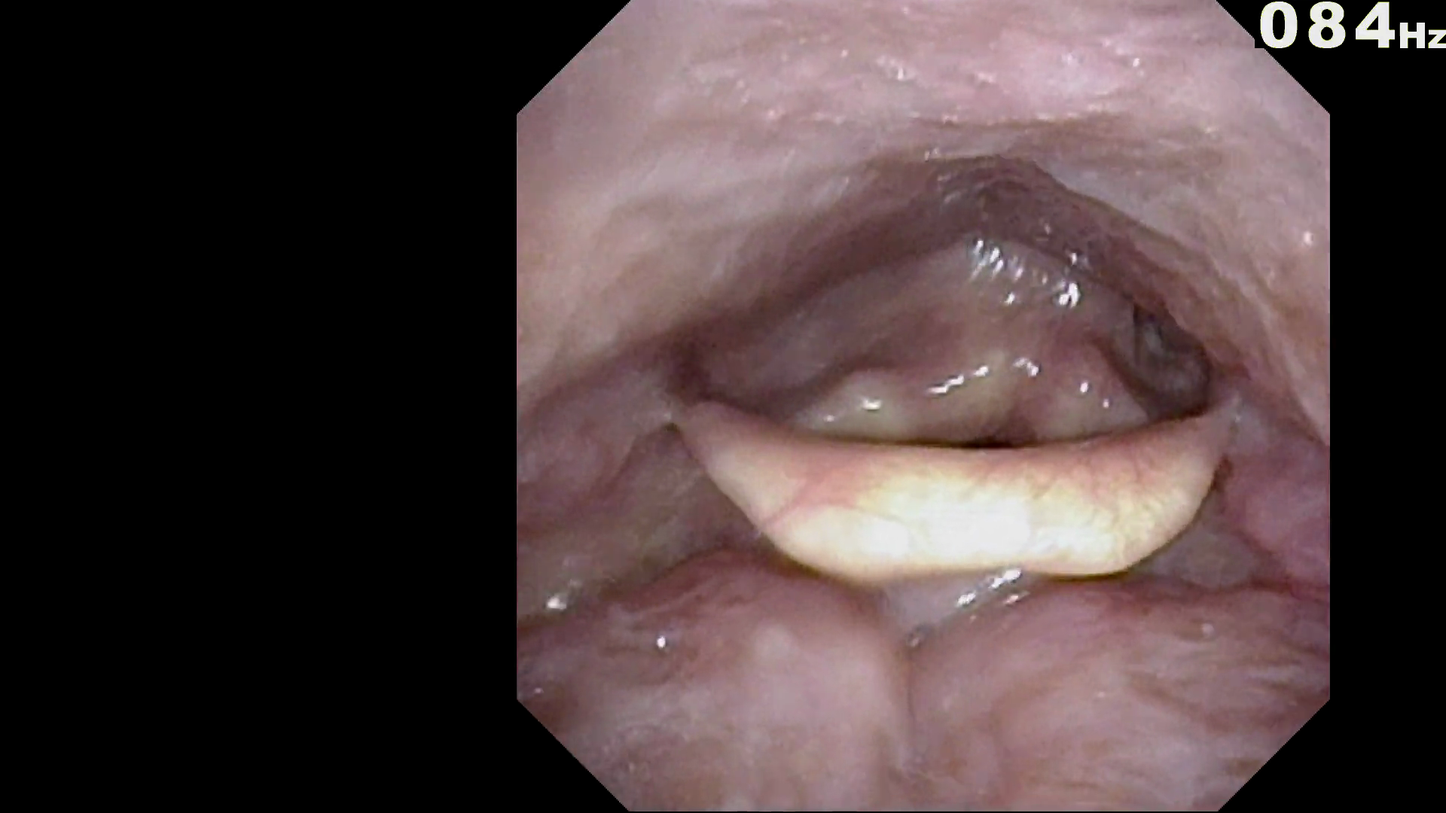epiglottis: (659, 338, 1256, 632)
trachea: (944, 388, 1029, 479)
